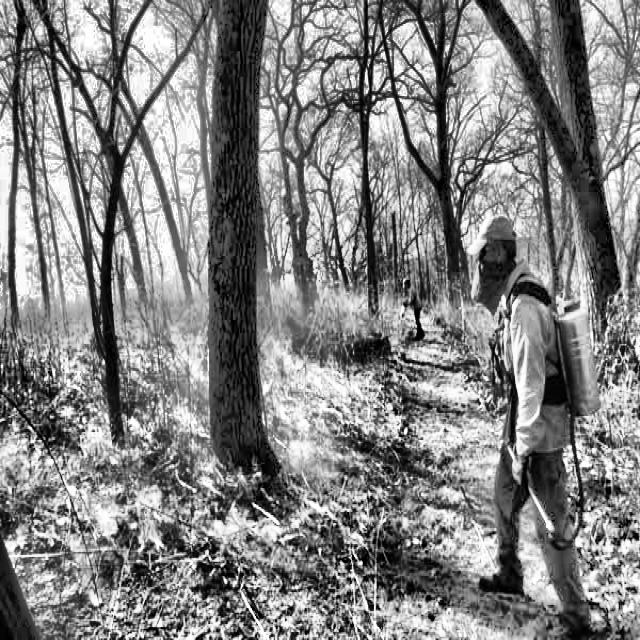fire: (70, 250, 432, 632)
